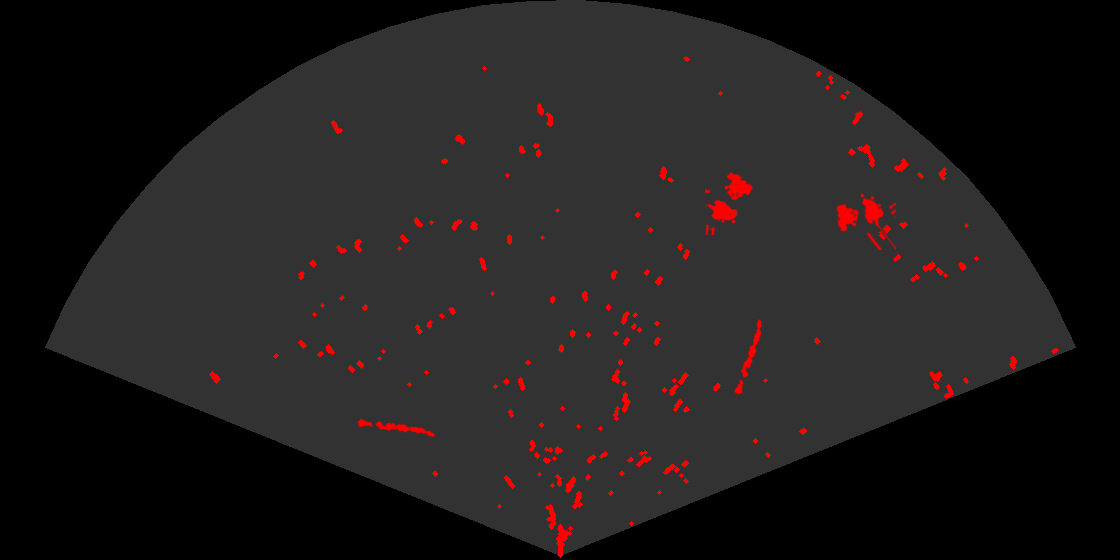cage: (835, 192, 896, 250), (705, 170, 755, 235)
chain: (733, 317, 764, 400), (356, 417, 437, 438)
